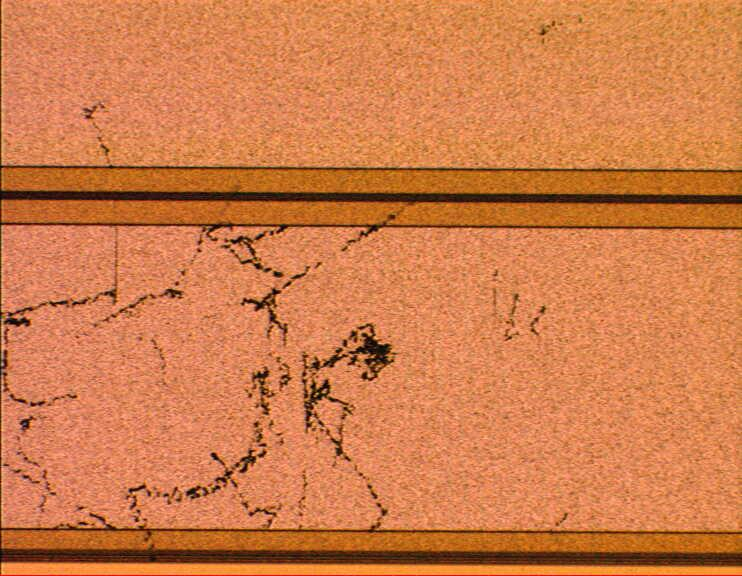SCRATCH: (1, 93, 551, 571)
